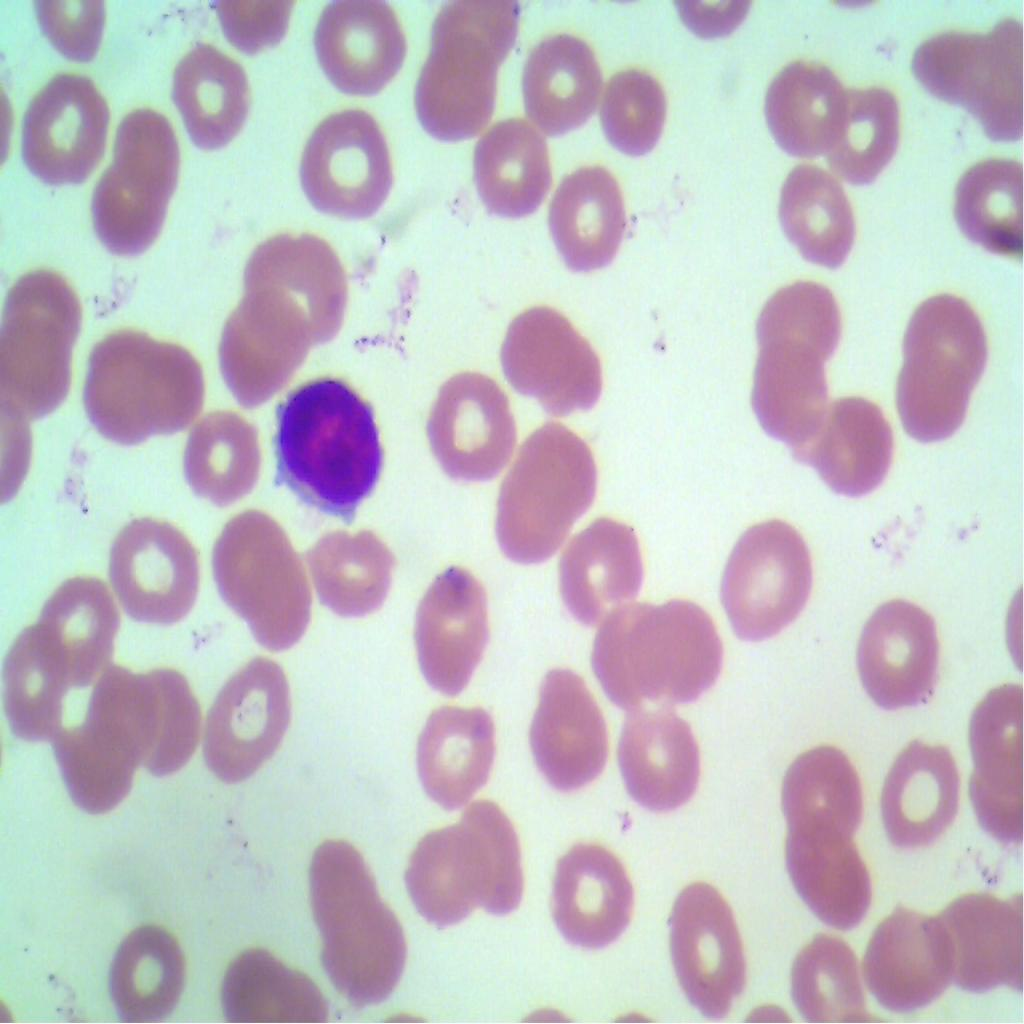Eritrosit: (661, 874, 756, 1018), (200, 654, 298, 793), (104, 504, 206, 634), (419, 358, 522, 484), (11, 62, 116, 185), (516, 664, 615, 794), (298, 104, 396, 232), (243, 232, 354, 344), (849, 585, 941, 718), (541, 832, 643, 951), (716, 518, 809, 644), (170, 37, 264, 161), (96, 914, 202, 1023), (410, 552, 493, 691), (410, 29, 502, 150), (556, 506, 648, 624), (215, 288, 308, 402), (804, 390, 898, 502), (308, 0, 413, 100), (924, 885, 1023, 991), (784, 825, 882, 932), (772, 734, 866, 845), (78, 329, 164, 450), (760, 40, 850, 154), (608, 708, 702, 817), (501, 307, 601, 409), (766, 159, 858, 269), (446, 804, 526, 930), (120, 669, 206, 784), (504, 424, 602, 524), (906, 15, 1004, 115), (878, 735, 961, 852), (34, 575, 118, 687), (521, 26, 606, 136), (823, 82, 906, 194), (938, 158, 1024, 265), (172, 399, 262, 501), (1, 618, 73, 744), (53, 719, 136, 828), (76, 662, 158, 772), (860, 903, 946, 1007), (326, 901, 408, 1010), (463, 120, 556, 216), (416, 698, 495, 810), (298, 828, 378, 938), (0, 304, 74, 421), (592, 588, 666, 705), (124, 338, 208, 441), (638, 604, 724, 704), (748, 338, 829, 444), (896, 346, 968, 464), (906, 284, 992, 381), (754, 274, 842, 368), (86, 166, 172, 260), (548, 167, 626, 269), (308, 528, 395, 618), (106, 109, 183, 205), (490, 477, 566, 574), (598, 59, 670, 158), (406, 820, 478, 918), (790, 928, 860, 1023), (215, 506, 281, 604), (246, 565, 318, 652)
Limfosit: (264, 378, 390, 527)
